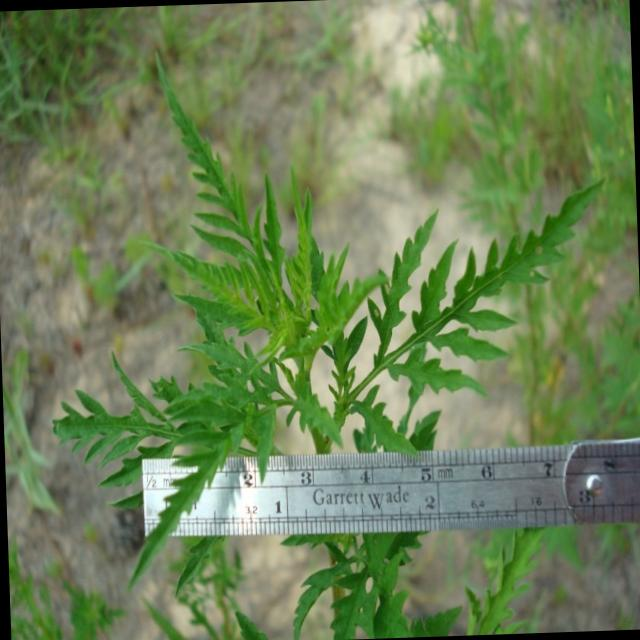ambrosia: (152, 121, 458, 578)
